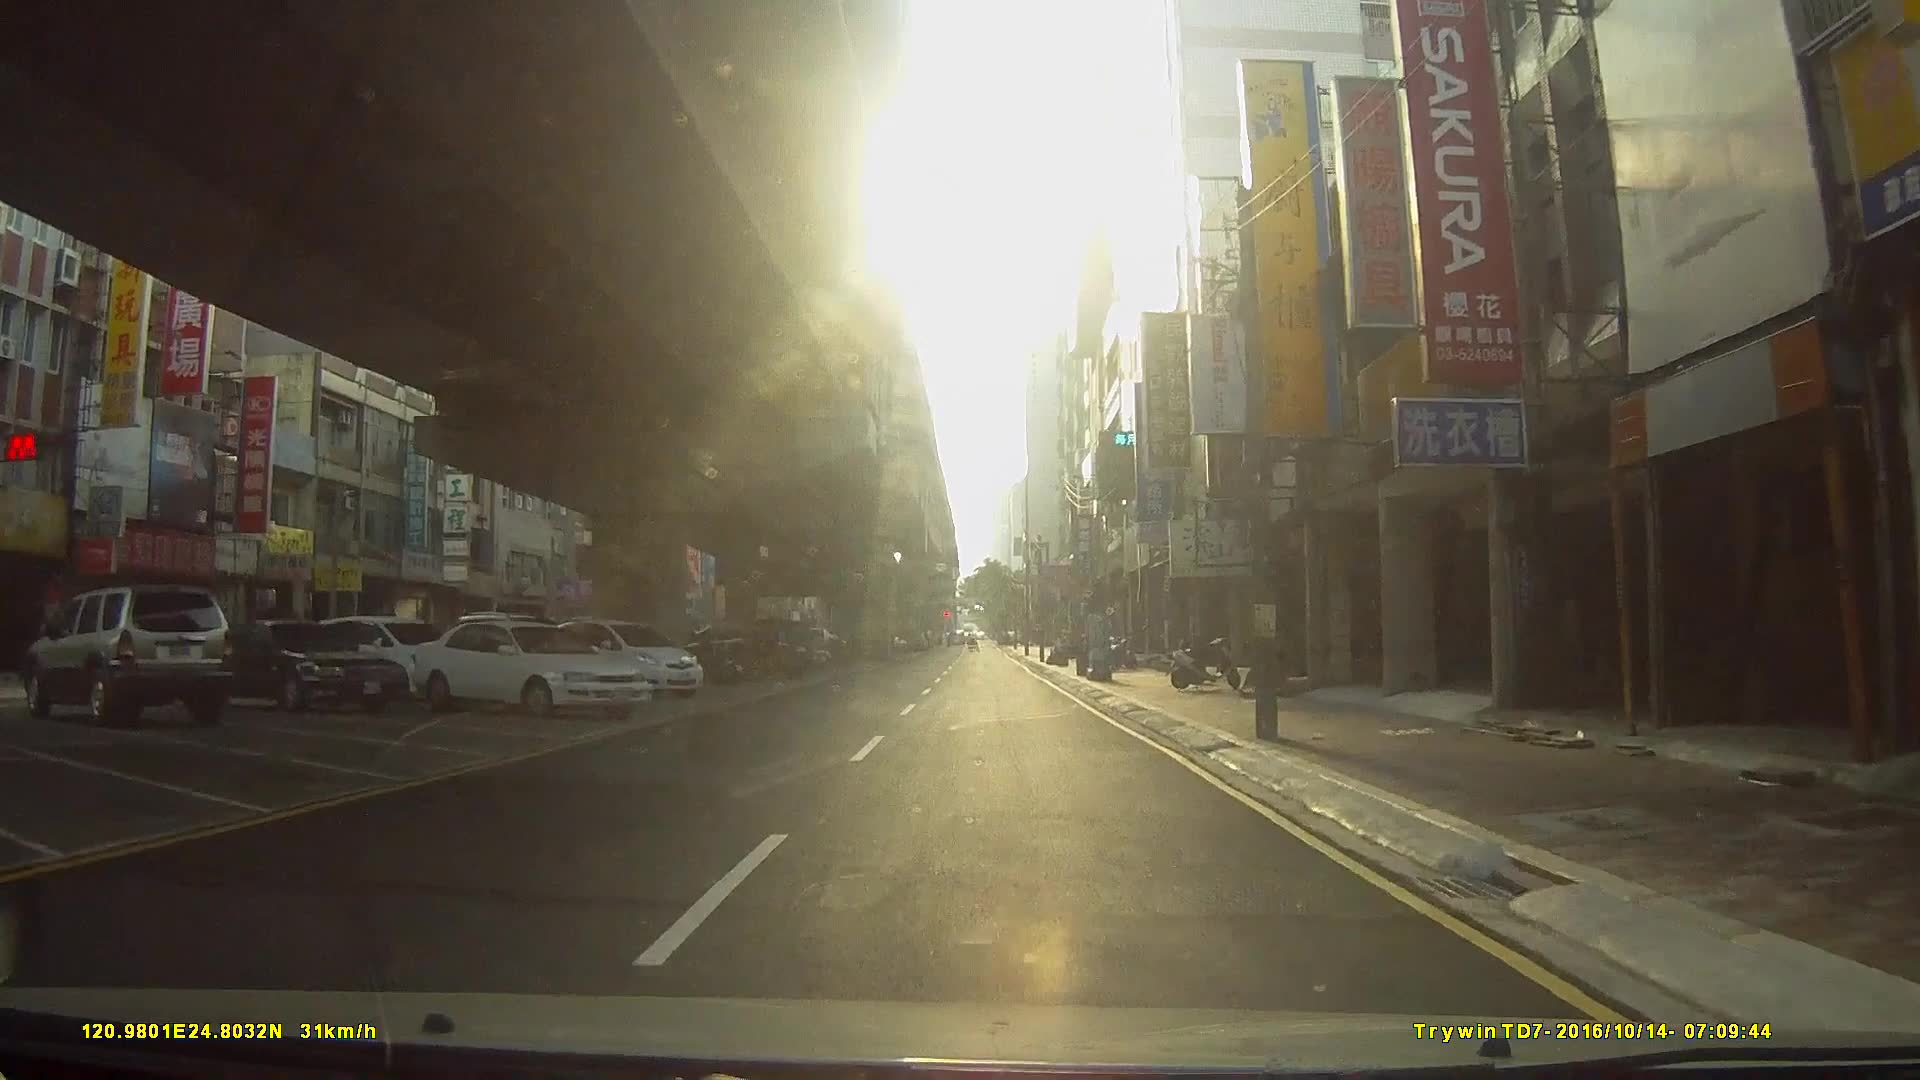vehicle: (20, 584, 235, 728), (405, 616, 653, 720), (182, 618, 405, 713), (541, 618, 700, 704)
